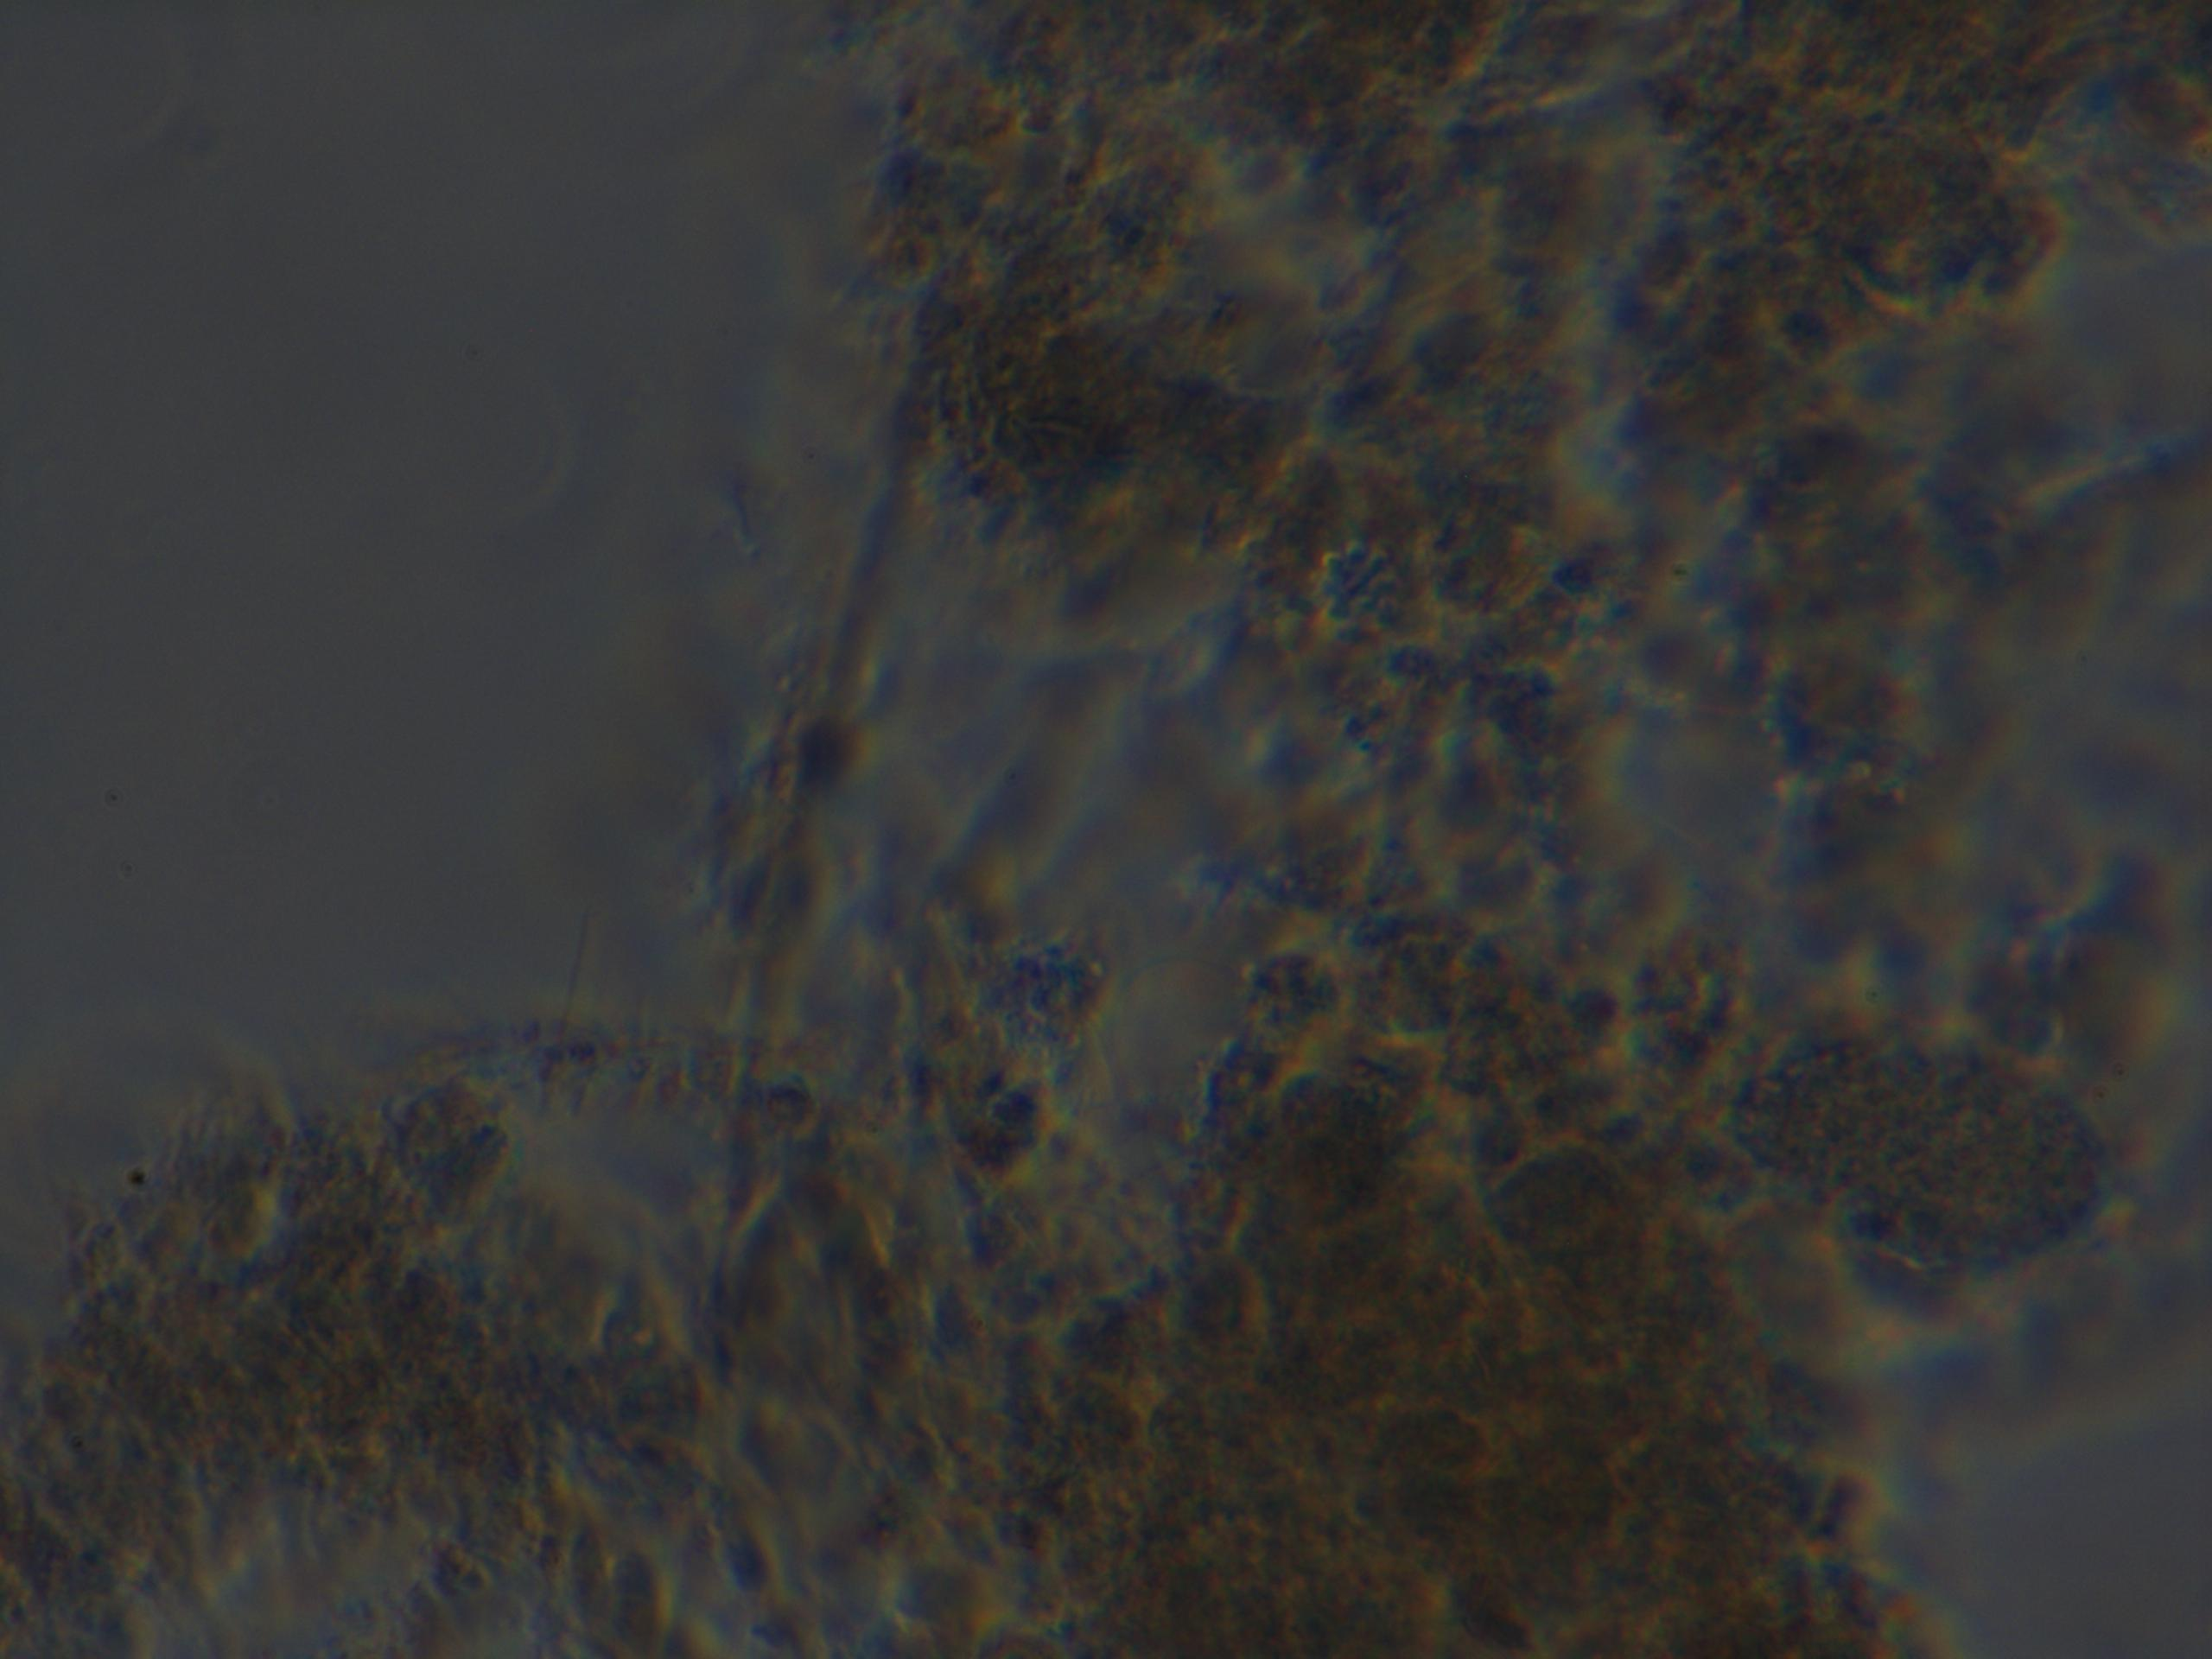filament: (648, 350, 944, 1182)
